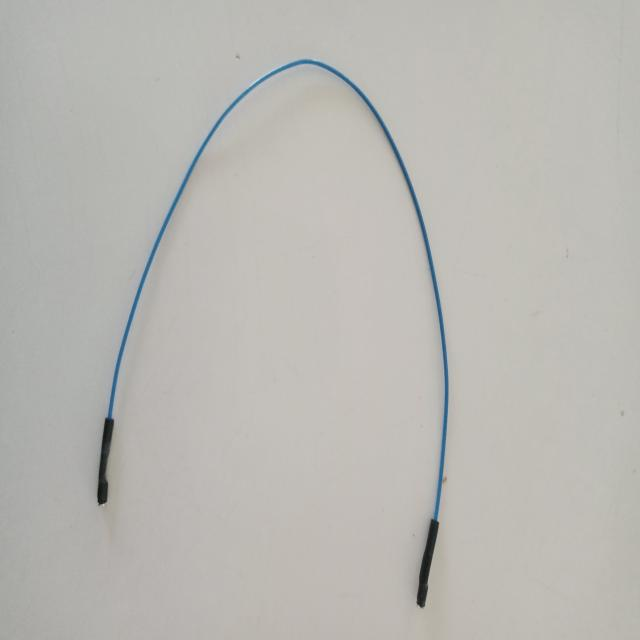BNC Cables Both Clips: (83, 51, 458, 622)
